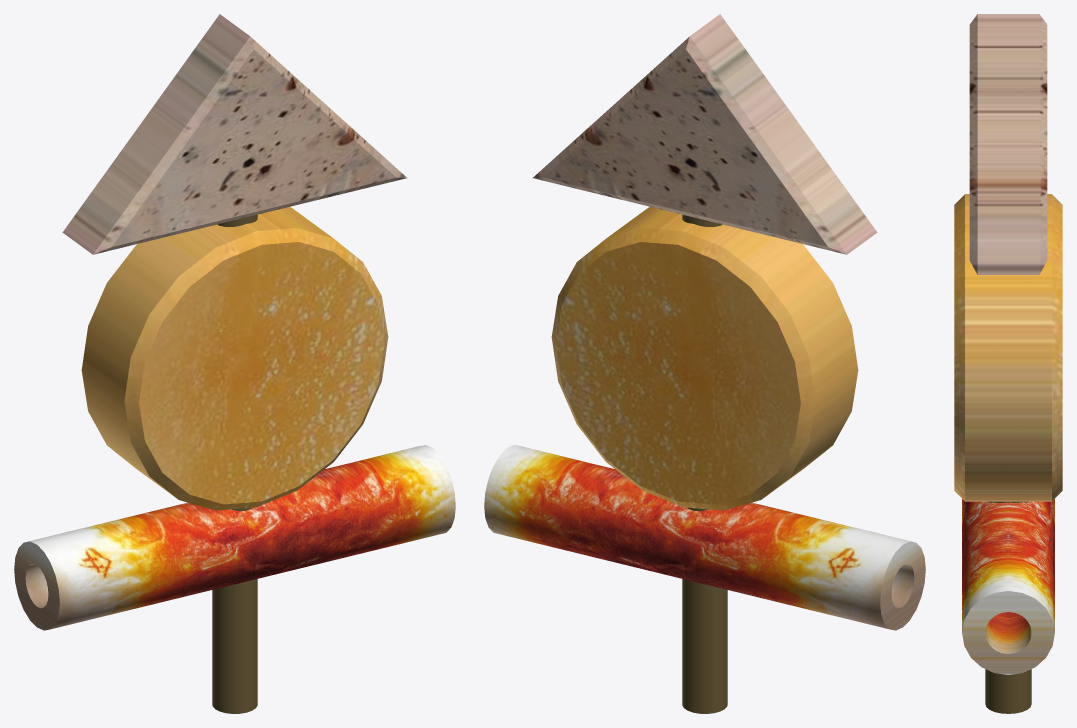
The model's file is Oden_3.fbx.
3 views of the same model, side by side, from view 1: azimuth 30°, elevation 25°; view 2: azimuth 150°, elevation 25°; view 3: azimuth 270°, elevation 25° (orthographic).
Parts seen in each view (by area): view 1: pCylinder6; view 2: pCylinder6; view 3: pCylinder6.
Boxes of the visible parts, bbox=[...] form: pCylinder6: bbox=[14, 14, 455, 713]; pCylinder6: bbox=[484, 14, 925, 713]; pCylinder6: bbox=[954, 14, 1062, 713].
Bounding box in the file's own units: 3 × 4.92 × 0.7.
Materials: 2 (1 with a texture image).
